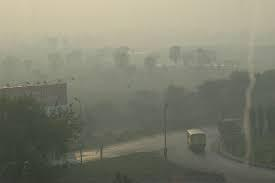smoke: (0, 5, 275, 183)
